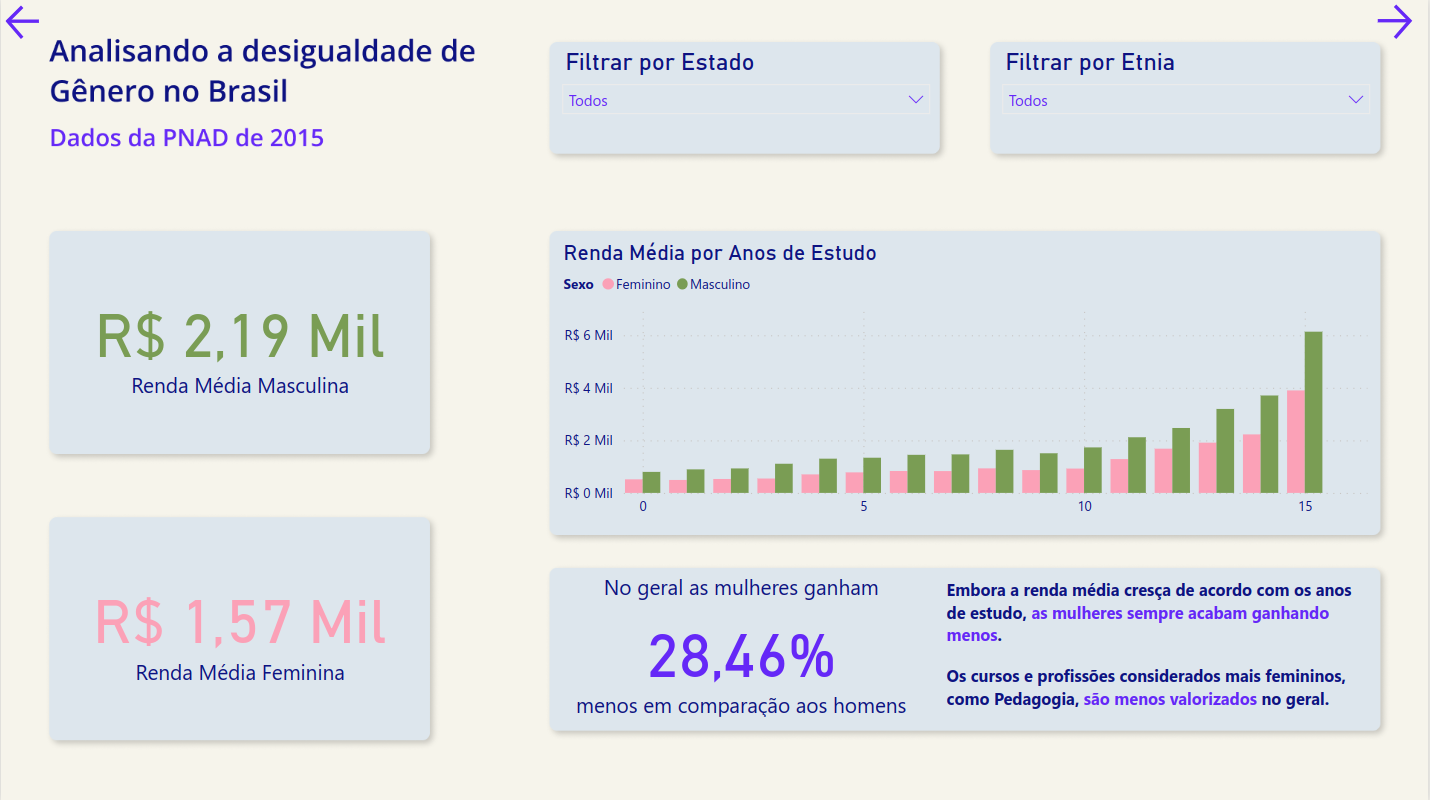

What the dashboard file says about the page in this screenshot:
{"tool":"powerbi","page":{"name":"Renda","canvas":[1280,720],"ordinal":1},"visuals":[{"type":"card","fields":{"Values":["MedidasSP.MediaHomens"]},"box":[43.7,206,341.1,202.2],"z":0},{"type":"card","fields":{"Values":["MedidasSP.MediaMulheres"]},"box":[43.7,462.6,341.1,203.1],"z":1000},{"type":"slicer","fields":{"Values":["Renda.UF"]},"box":[492.8,40.8,349.9,98.2],"z":2000},{"type":"slicer","fields":{"Values":["Renda.Cor"]},"box":[887.4,40.8,349.9,98.2],"z":3000},{"type":"clusteredColumnChart","title":"Renda Média por Anos de Estudo","fields":{"Category":["Renda.Anos de Estudo"],"Y":["Avg(Renda.Renda)"],"Series":["Renda.Sexo"]},"box":[499.6,217.7,730.9,254.6],"z":4000},{"type":"card","title":"No geral as mulheres ganham","fields":{"Values":["Medidas.DiferencaEmRenda"]},"box":[492.8,515.1,341.1,134.1],"z":5000},{"type":"textbox","box":[842.6,515.1,387.8,134.1],"z":6000},{"type":"actionButton","box":[1228.5,0,51.5,40.8],"z":6001},{"type":"actionButton","box":[0,1,53.5,39.8],"z":6002}]}

Visuals, with their boxes in screenshot pixels (x1, y1, x2, y2), scaled from the page's 1280x720 canvas onto the 1430x800 screenshot:
card - MedidasSP.MediaHomens: x1=49 y1=229 x2=430 y2=454
card - MedidasSP.MediaMulheres: x1=49 y1=514 x2=430 y2=740
slicer - Renda.UF: x1=551 y1=45 x2=941 y2=154
slicer - Renda.Cor: x1=991 y1=45 x2=1382 y2=154
"Renda Média por Anos de Estudo" clusteredColumnChart: x1=558 y1=242 x2=1375 y2=525
"No geral as mulheres ganham" card: x1=551 y1=572 x2=932 y2=721
textbox: x1=941 y1=572 x2=1375 y2=721
actionButton: x1=1372 y1=0 x2=1429 y2=45
actionButton: x1=0 y1=1 x2=60 y2=45
